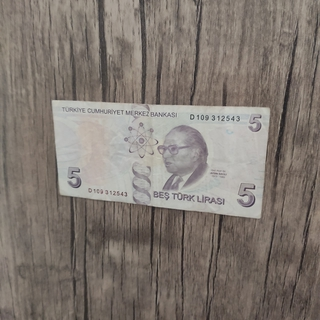5TLBack: (50, 98, 271, 218)
